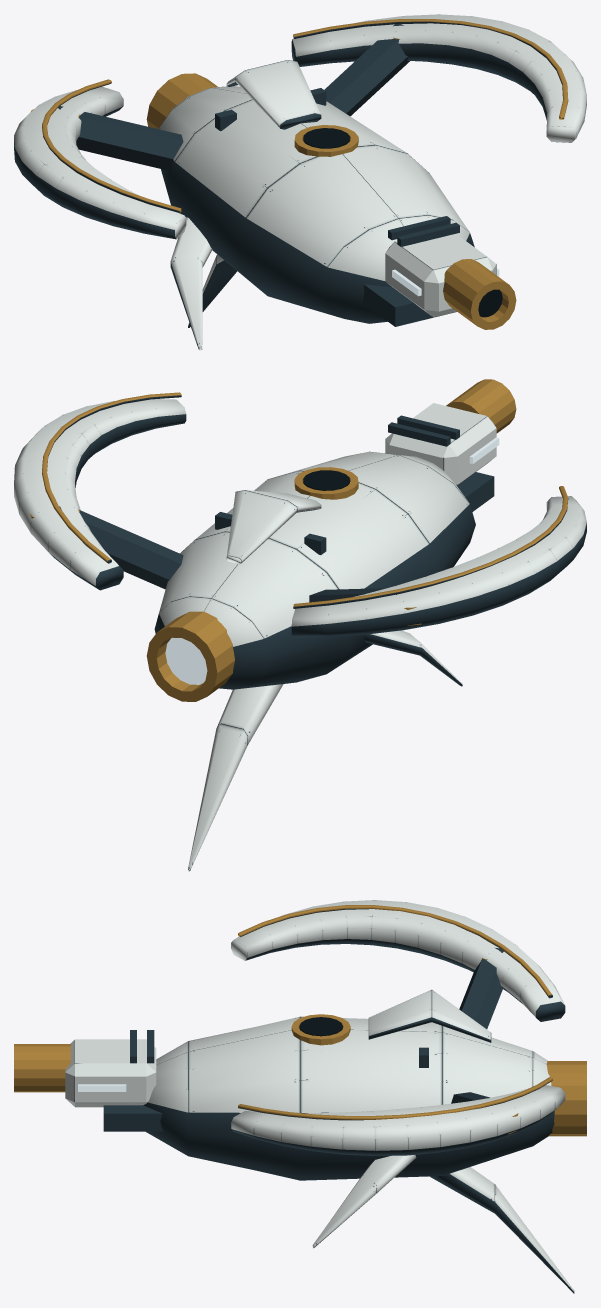
Rendered from pioneer-europa-l06-laser.glb.
3 views of the same model, one above another, from view 1: azimuth 30°, elevation 25°; view 2: azimuth 150°, elevation 25°; view 3: azimuth 270°, elevation 25° (orthographic). The views are drawn at different scales.
Parts seen in each view (by area): view 1: Drone; view 2: Drone; view 3: Drone.
Part boxes in pixels (<box>): Drone: <box>14,14,586,350</box>; Drone: <box>14,379,586,871</box>; Drone: <box>14,900,586,1293</box>.
Size of the model in its own units: 1.4 by 0.82 by 1.45.
3 materials, 3 textured.
